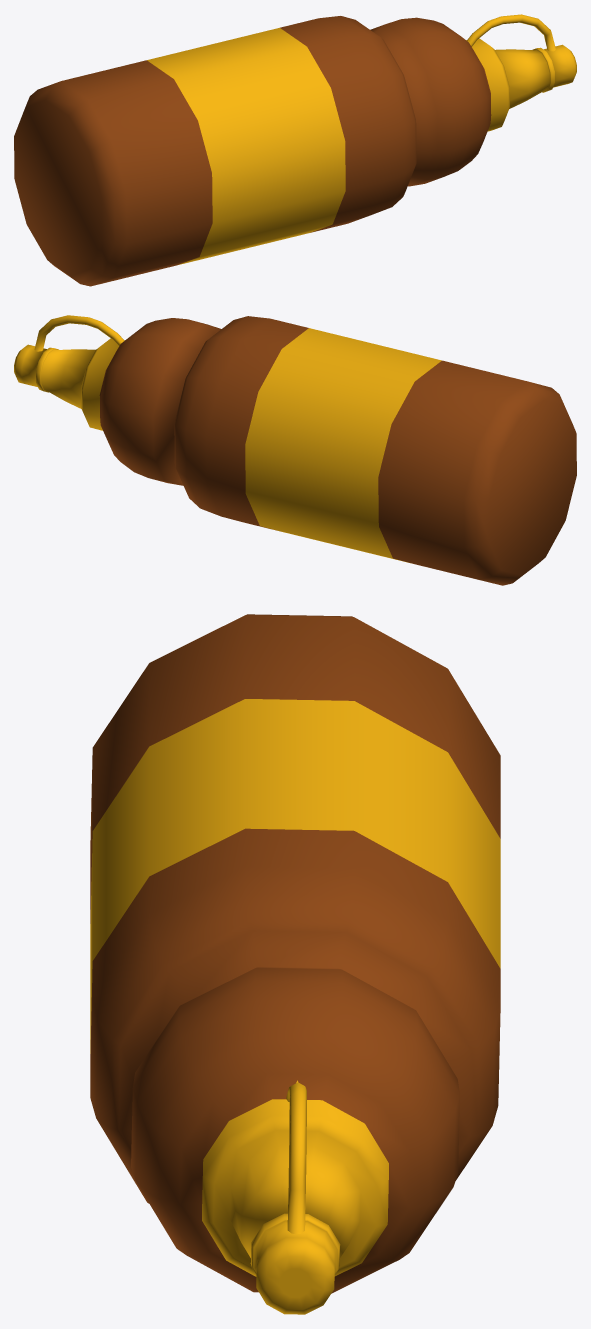
Rendered from model_frascomel_01.fbx.
The picture shows the model from 3 angles, top to bottom: view 1: azimuth 30°, elevation 25°; view 2: azimuth 150°, elevation 25°; view 3: azimuth 270°, elevation 25°; orthographic projection. The views are drawn at different scales.
Parts seen in each view (by area): view 1: Plastico de Mel.003; view 2: Plastico de Mel.003; view 3: Plastico de Mel.003.
Boxes of the visible parts, x1=… form: Plastico de Mel.003: x1=14, y1=14, x2=576, y2=286; Plastico de Mel.003: x1=14, y1=315, x2=576, y2=585; Plastico de Mel.003: x1=90, y1=614, x2=500, y2=1314.
Size of the model in its own units: 1.16 by 0.4016 by 0.4016.
